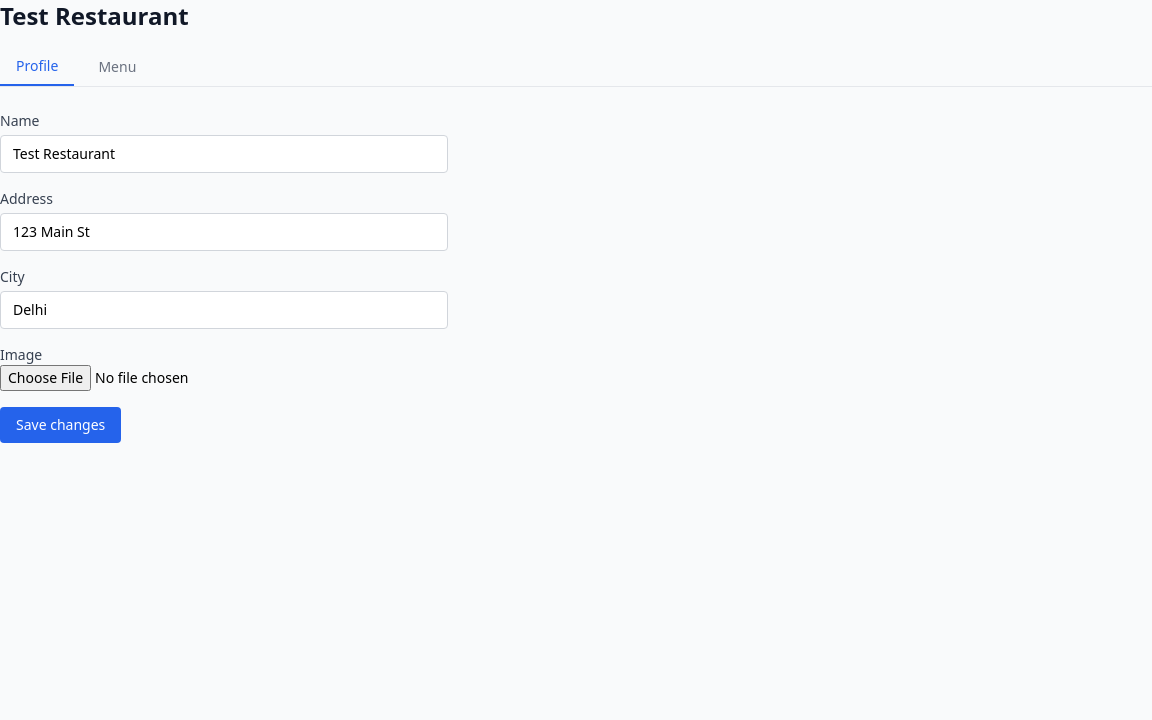
Scenario: RestaurantDashboard › shows the delete confirmation modal with the real item name when Delete is clicked, and deletes on confirm
Expected: the heading "Test Restaurant" is shown, [0,0,189,32]
Step 1. Click the button "menu" → [117, 67], box [82,48,152,86]
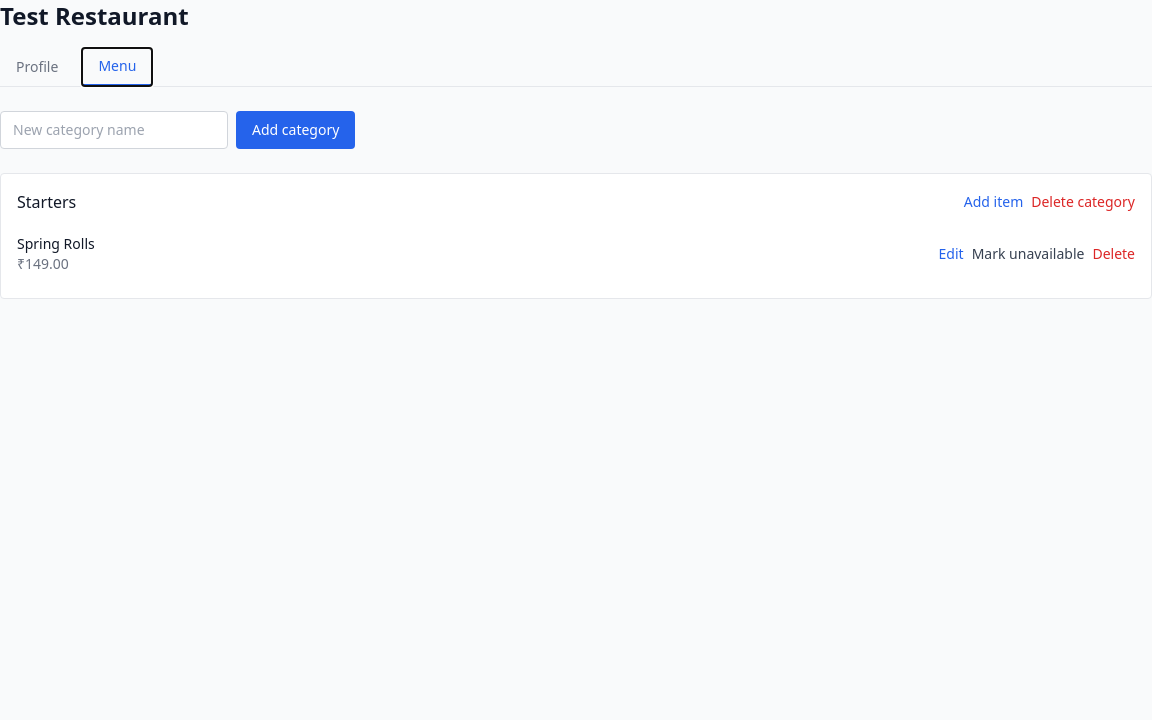
Now the text "Spring Rolls" is shown, box [17,234,95,254]
Step 2. Click the button "Delete" → [1114, 254], box [1092,244,1135,264]
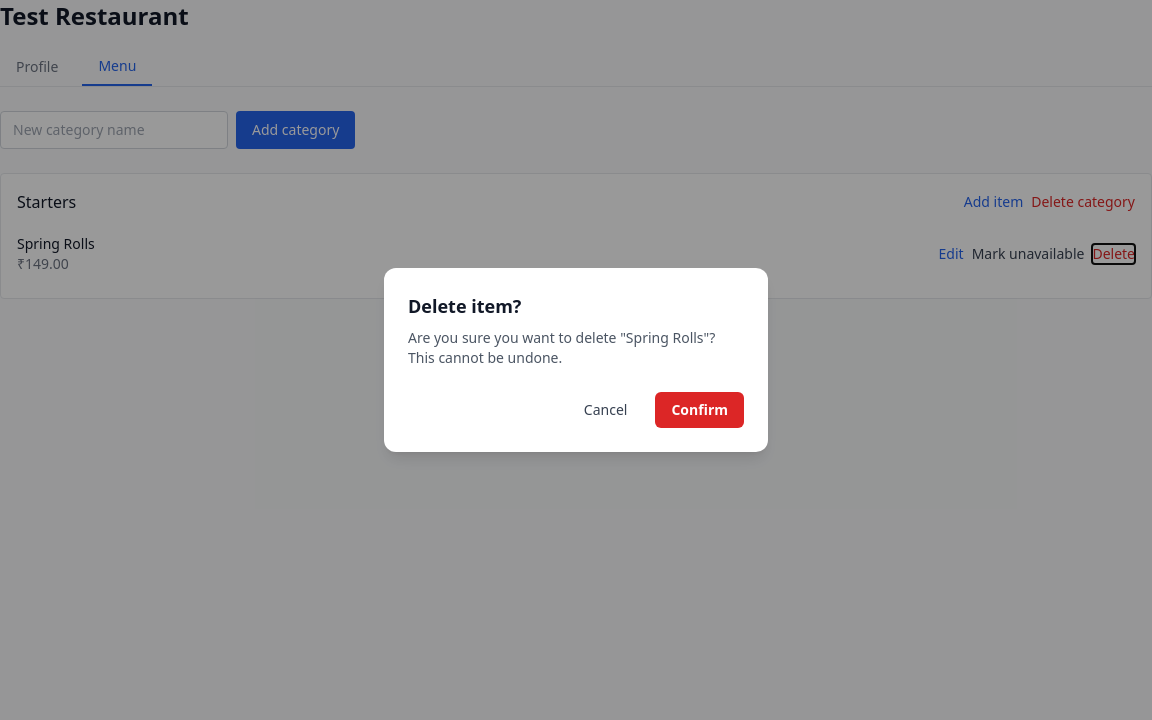
Now the text "Are you sure you want to delete \"Spring Rolls\"" is shown, box [408,328,715,367]
Step 3. Click the button "Confirm" → [700, 410], box [655,392,744,428]
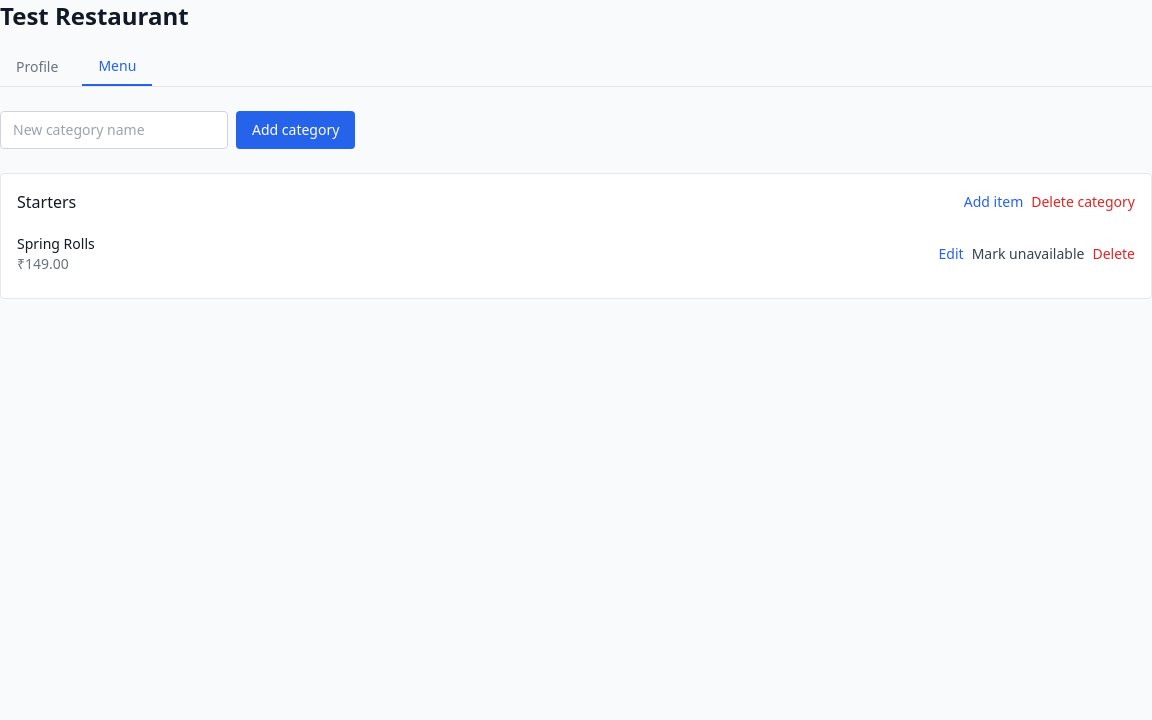
Now the text "Are you sure you want to delete" is gone
